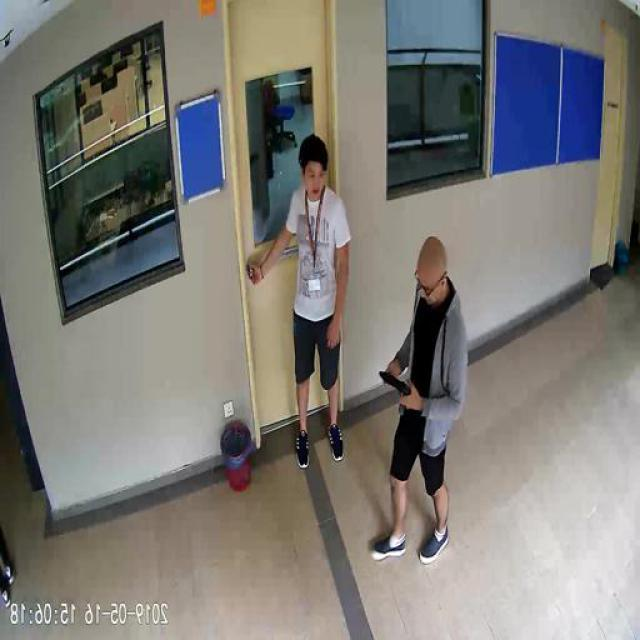Gun: (381, 368, 414, 402)
